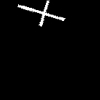single_crochet: (18, 1, 64, 25)
